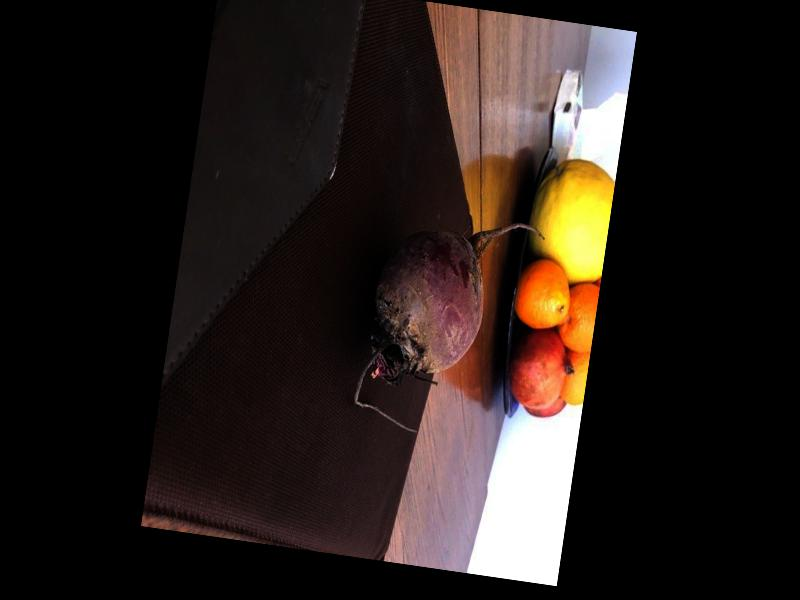Beet: (350, 201, 547, 448)
